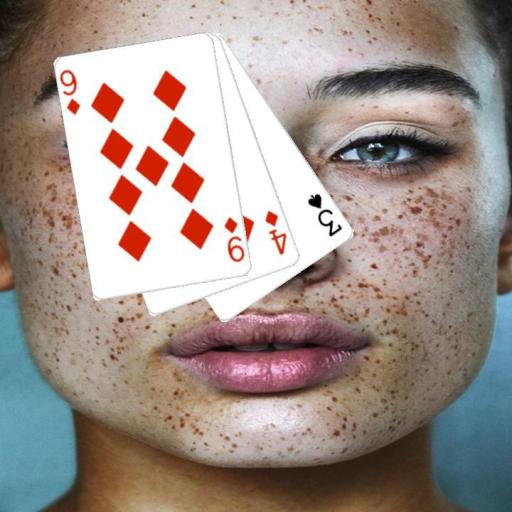3S: (305, 190, 345, 238)
4D: (262, 208, 289, 257)
9D: (221, 214, 246, 264), (59, 66, 83, 117)
